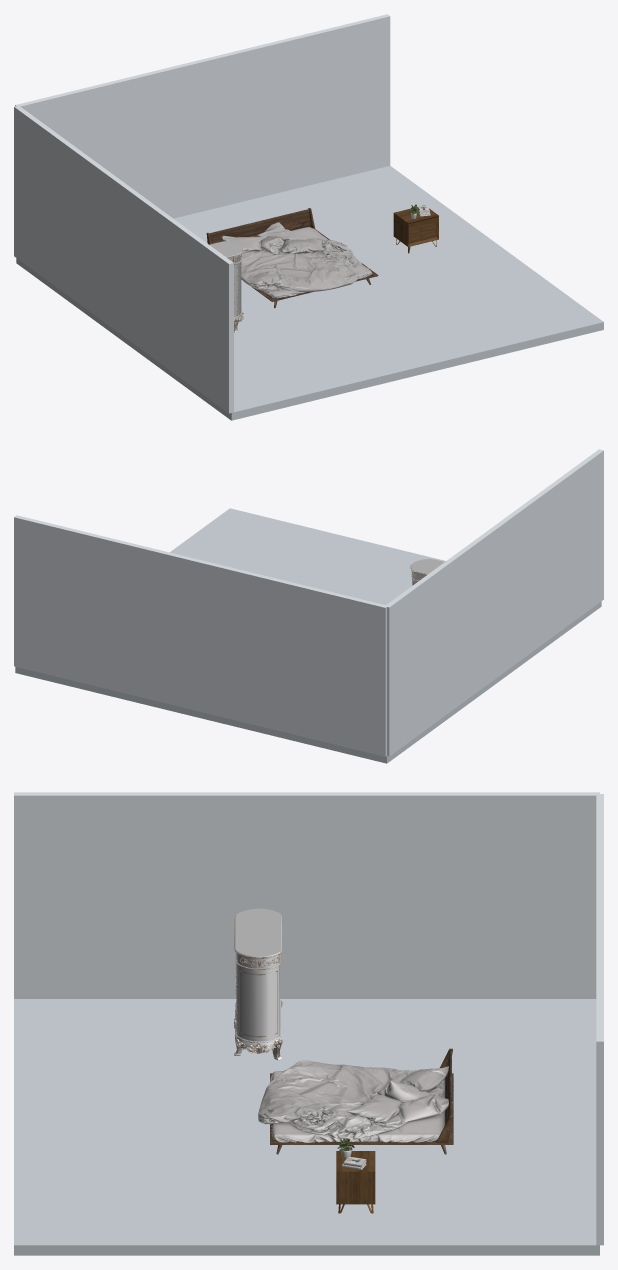
File: stage1.glb
3 renders of one model, top to bottom at view 1: azimuth 30°, elevation 25°; view 2: azimuth 150°, elevation 25°; view 3: azimuth 270°, elevation 25°, orthographic. The views are drawn at different scales.
Parts seen in each view (by area): view 1: Floor, wall_back, wall_left, raw_model, raw_model.001, raw_model.002; view 2: wall_back, wall_left, Floor, raw_model.002; view 3: Floor, wall_left, raw_model, raw_model.002, wall_back, raw_model.001.
Boxes of the visible parts, x1,y1,x2,y2 form: Floor: (16, 165, 603, 420); wall_back: (15, 14, 390, 218); wall_left: (14, 105, 233, 413); raw_model: (206, 208, 378, 308); raw_model.001: (393, 204, 438, 253); raw_model.002: (209, 241, 243, 332); wall_back: (14, 515, 387, 756); wall_left: (386, 449, 603, 756); Floor: (15, 508, 601, 763); raw_model.002: (410, 559, 444, 585); Floor: (14, 999, 599, 1255); wall_left: (14, 792, 599, 998); raw_model: (258, 1048, 453, 1154); raw_model.002: (234, 908, 282, 1060); wall_back: (596, 794, 603, 1245); raw_model.001: (336, 1138, 375, 1213).
Bounding box in the file's own units: 6.04 × 2.42 × 6.04.
5 materials, 3 textured.
